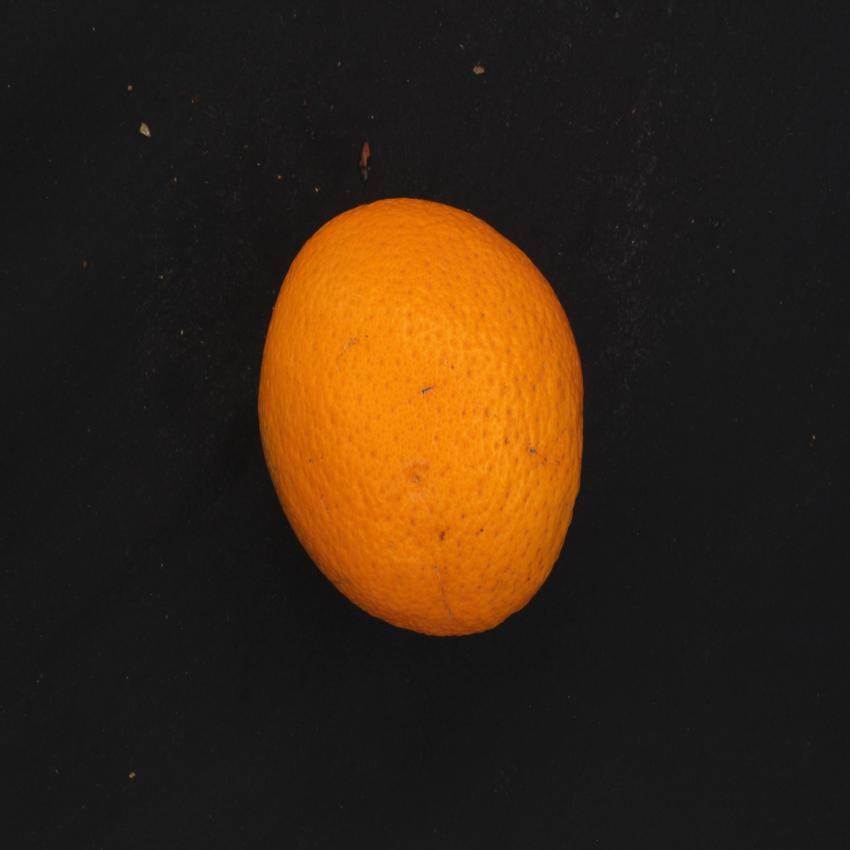Buen estado: (251, 182, 596, 646)
